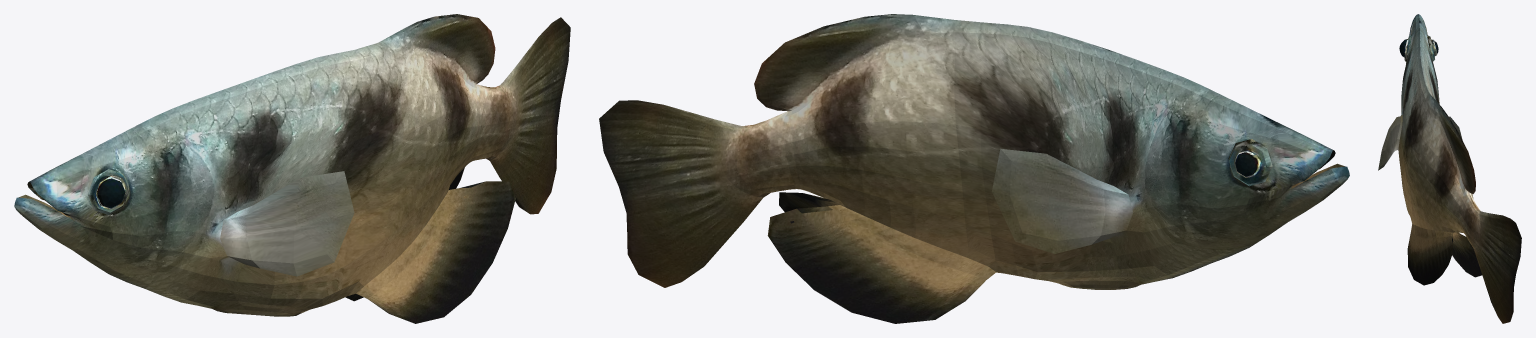
Rendered from arrow_rig.obj.
3 renders of one model, left to right at view 1: azimuth 30°, elevation 25°; view 2: azimuth 150°, elevation 25°; view 3: azimuth 270°, elevation 25°, orthographic. The views are drawn at different scales.
Parts seen in each view (by area): view 1: Plane.001; view 2: Plane.001; view 3: Plane.001.
Part boxes in pixels (x1,y1,x2,y2): Plane.001: (14,14,570,323); Plane.001: (599,14,1349,323); Plane.001: (1378,14,1521,323).
Size of the model in its own units: 9.15 by 3.87 by 2.9.
1 material, 1 textured.
